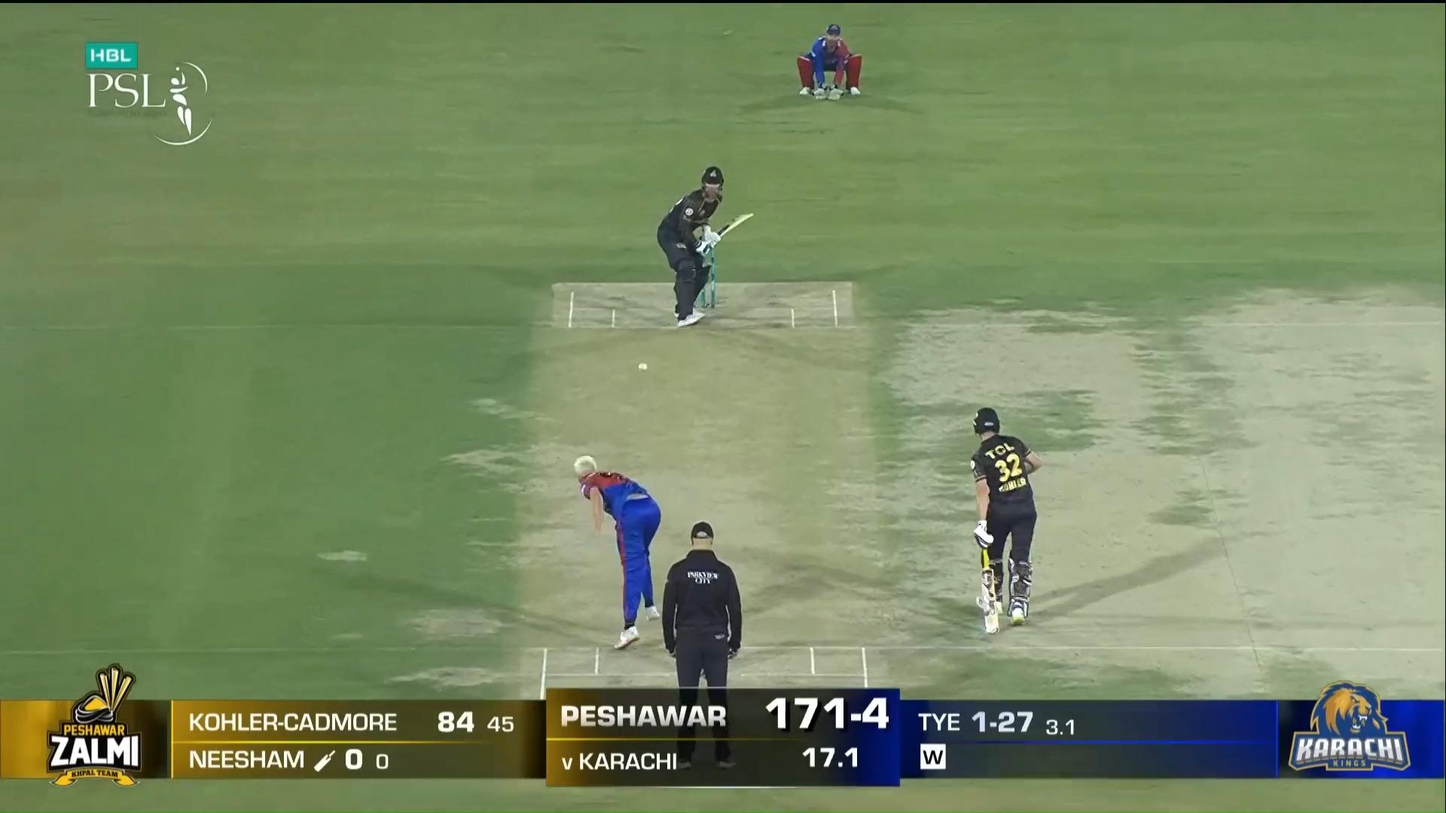batsman: (658, 165, 753, 328)
